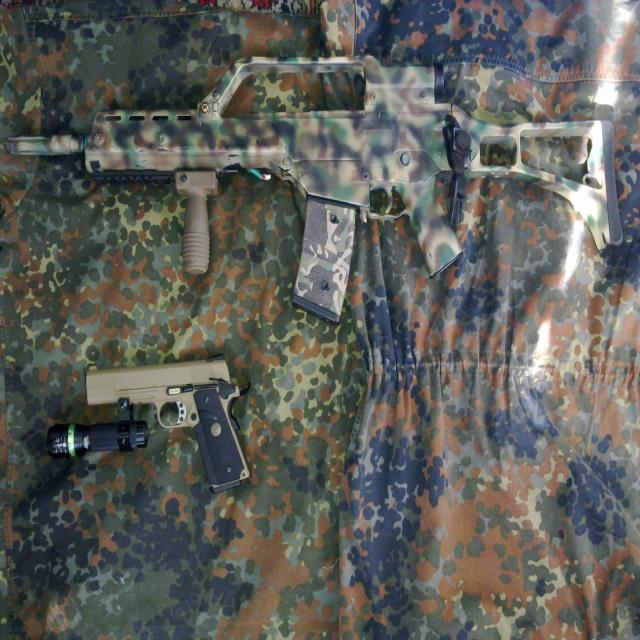firearm: (4, 54, 624, 328)
pistol: (84, 352, 253, 496)
